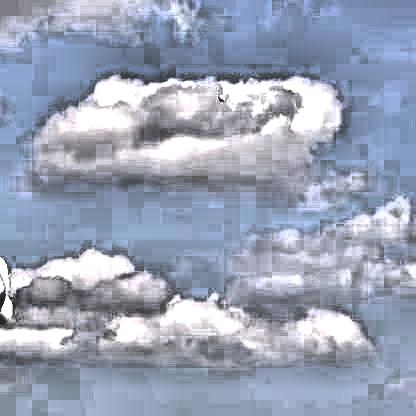golfball: (217, 93, 226, 103)
